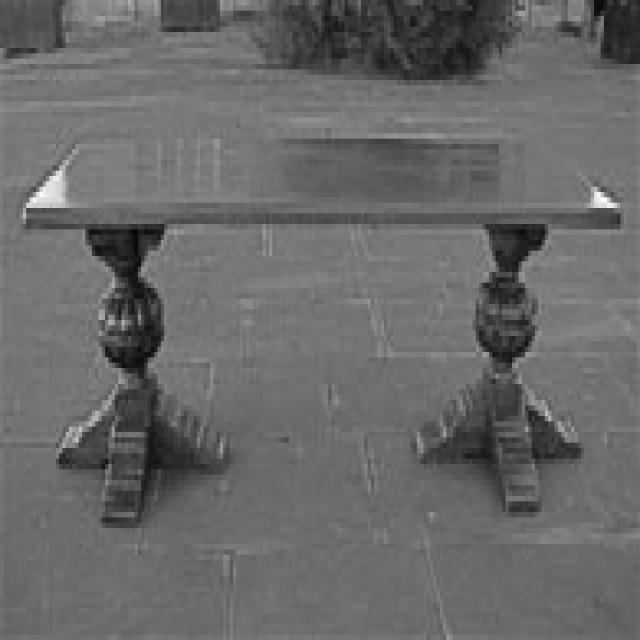table: (21, 130, 622, 528)
